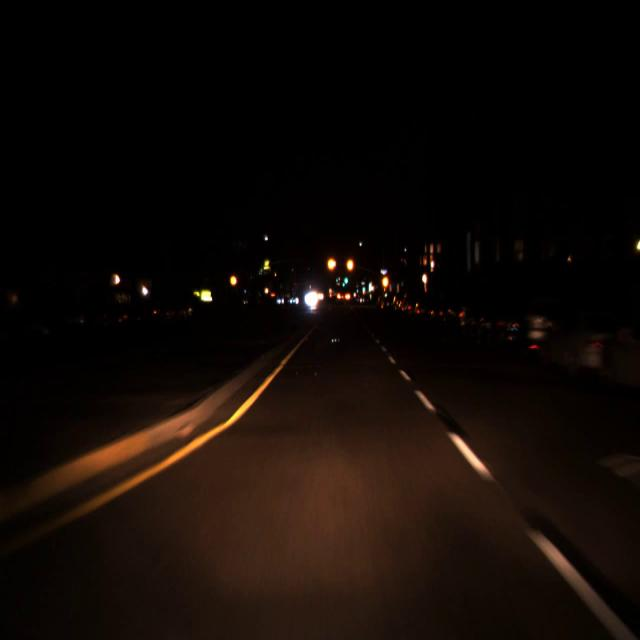go: (344, 270, 348, 286), (361, 280, 366, 292)
go traffic light: (344, 270, 348, 286), (361, 280, 366, 292)
warning: (326, 251, 337, 277), (345, 251, 355, 278), (228, 267, 238, 291), (381, 272, 390, 292)
warning traffic light: (326, 251, 337, 277), (345, 251, 355, 278), (228, 267, 238, 291), (381, 272, 390, 292)
